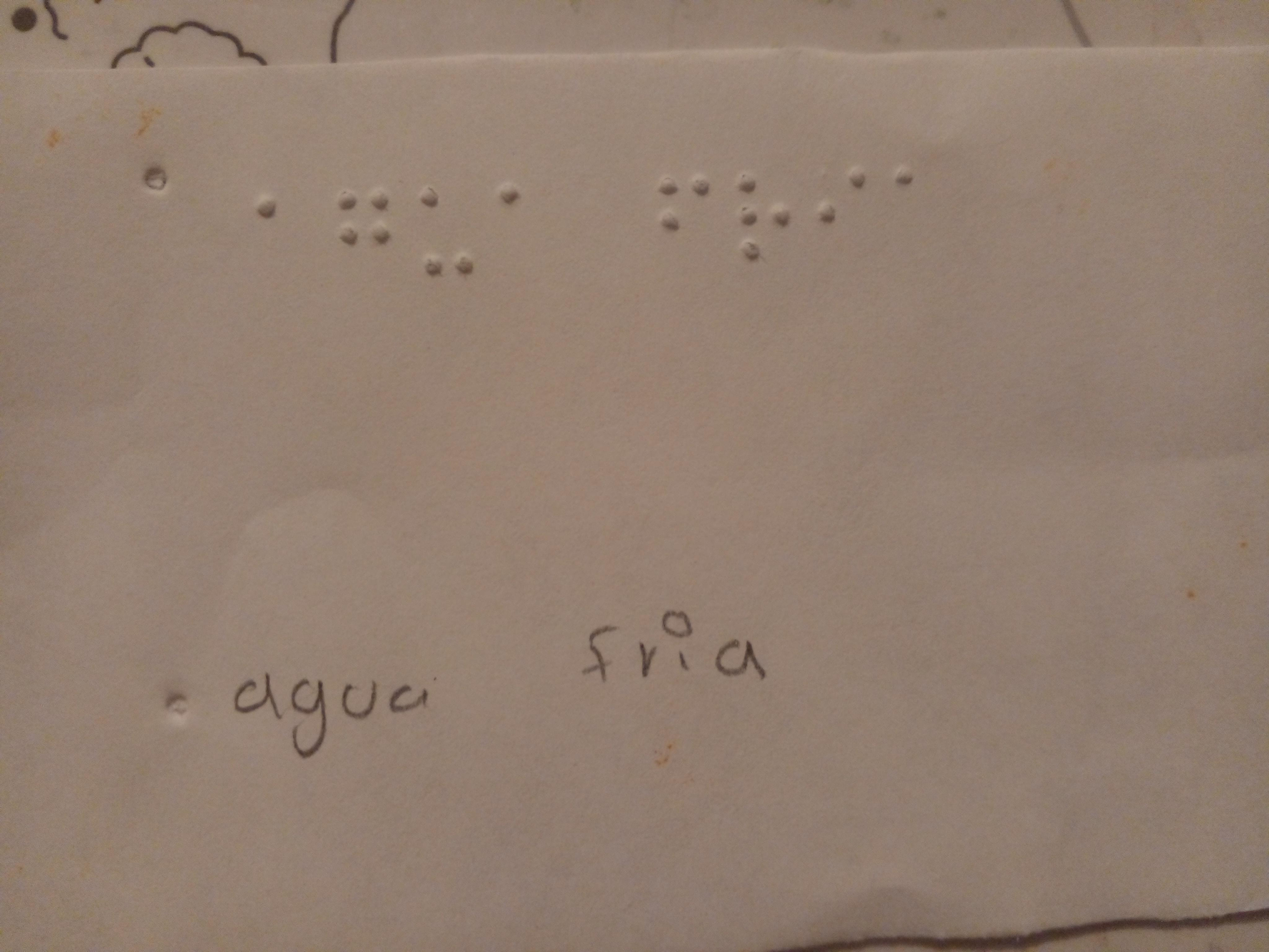a: (883, 115, 954, 288), (490, 143, 555, 304), (235, 170, 316, 294)
f: (641, 149, 725, 285)
g: (325, 167, 418, 304)
i: (818, 130, 877, 313)
r: (716, 133, 802, 301)
u: (403, 155, 486, 328)
